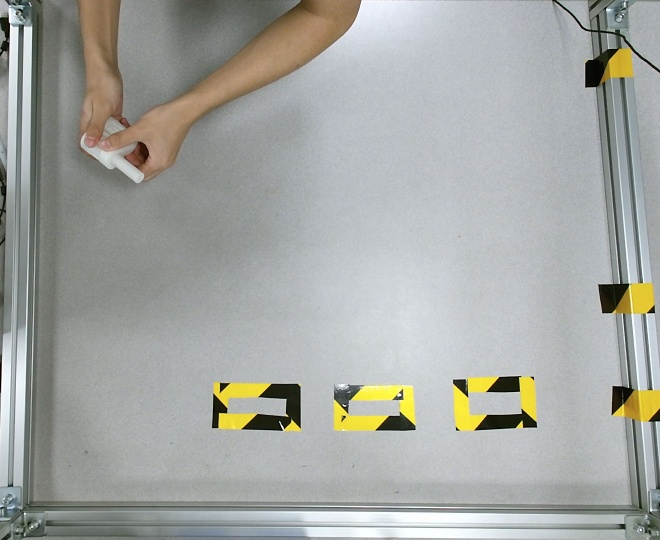stage_4: (81, 116, 145, 183)
